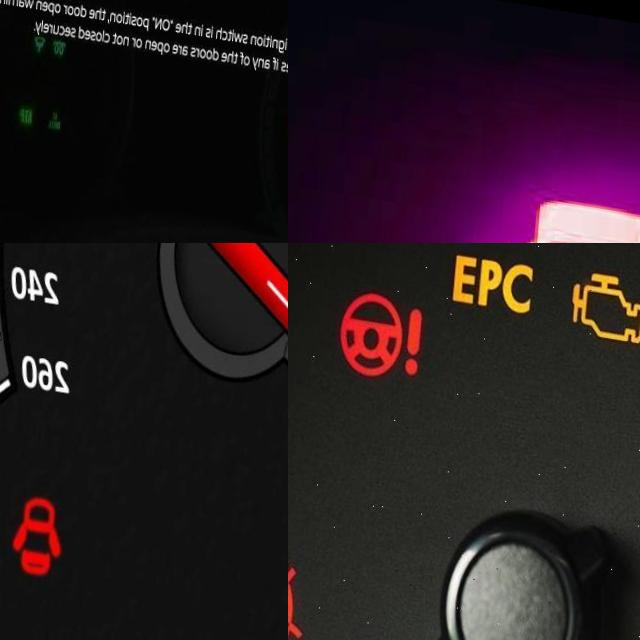Electronic Power Steering Warning: (342, 288, 426, 375)
Seat Belt: (288, 552, 311, 640)
